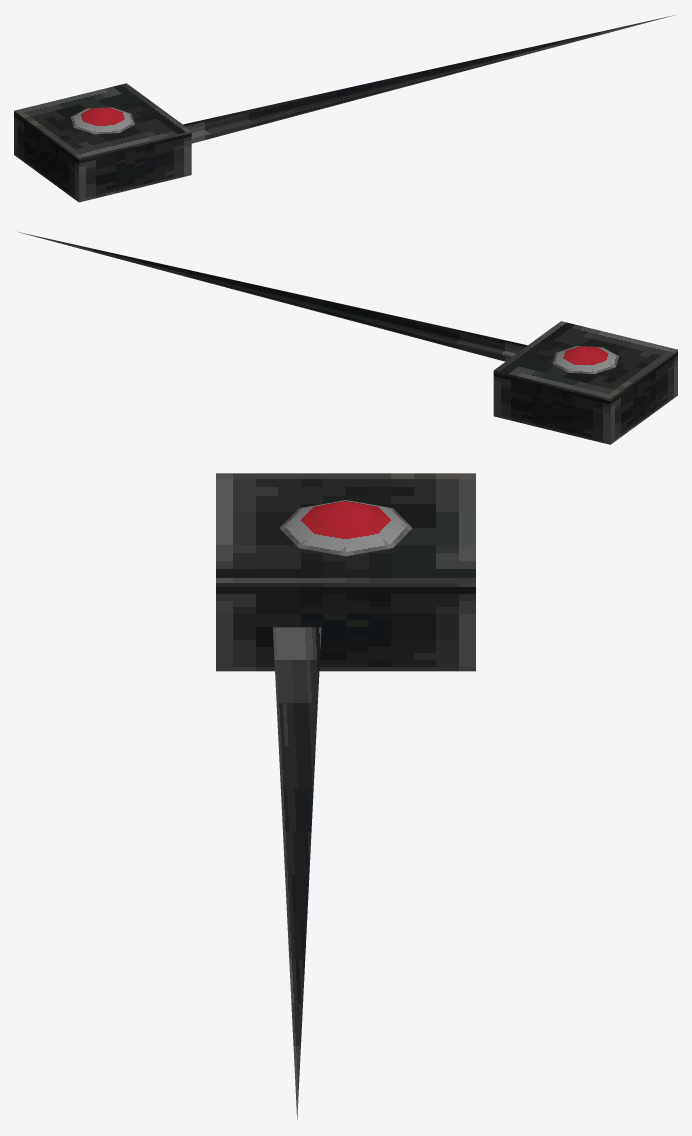
File: Bomb.fbx
The picture shows the model from 3 angles, top to bottom: view 1: azimuth 30°, elevation 25°; view 2: azimuth 150°, elevation 25°; view 3: azimuth 270°, elevation 25°; orthographic projection. The views are drawn at different scales.
Visible parts, largest first — view 1: bomb; view 2: bomb; view 3: bomb.
Boxes of the visible parts, x1=… form: bomb: x1=14, y1=15, x2=673, y2=202; bomb: x1=18, y1=232, x2=677, y2=444; bomb: x1=216, y1=473, x2=475, y2=1119.
Size of the model in its own units: 88 by 7.7 by 16.
Materials: 1 (1 with a texture image).
